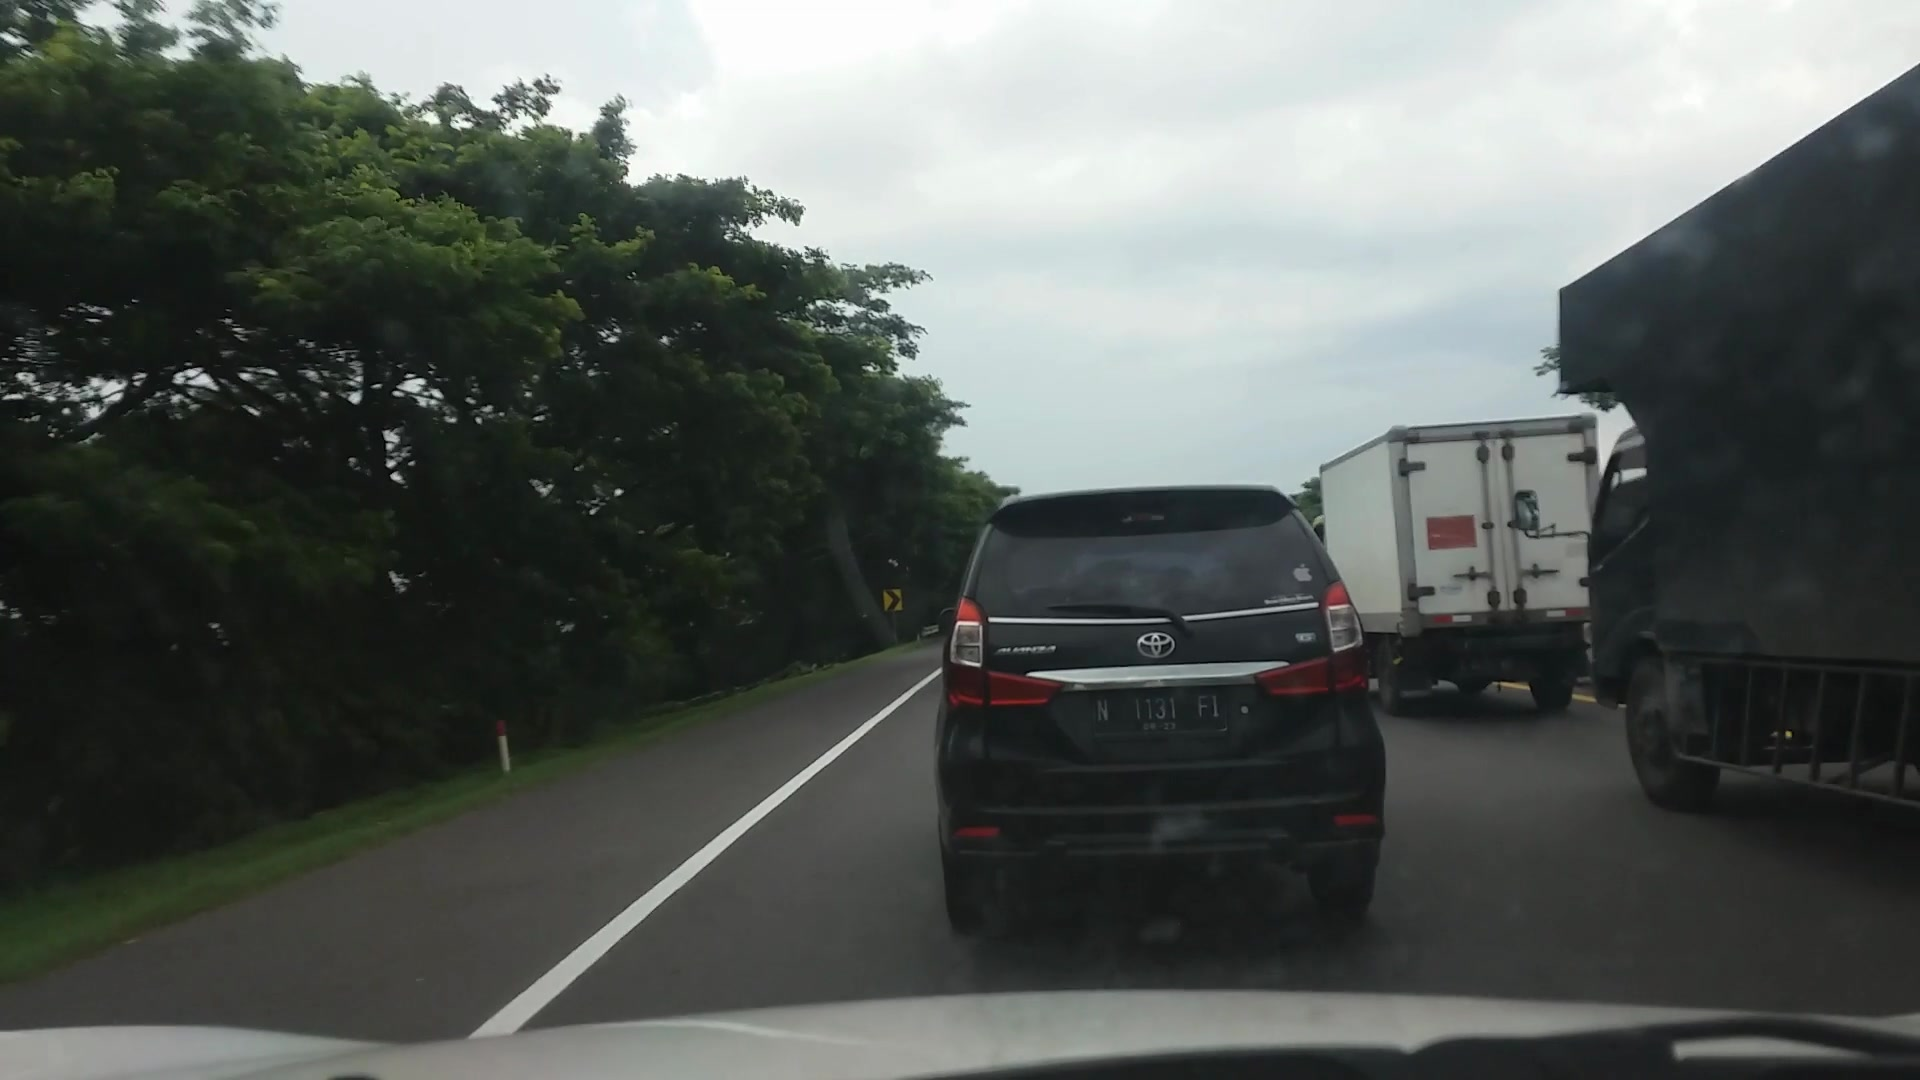plate_positive: (1091, 688, 1226, 735)
